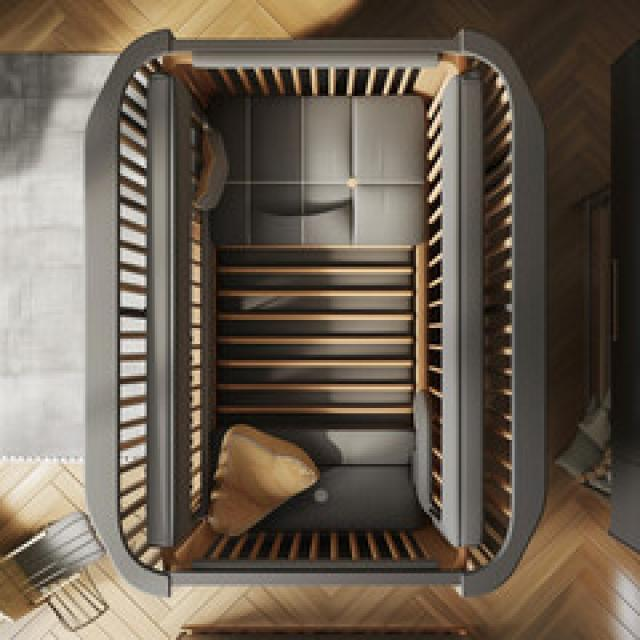crib: (116, 42, 534, 595)
